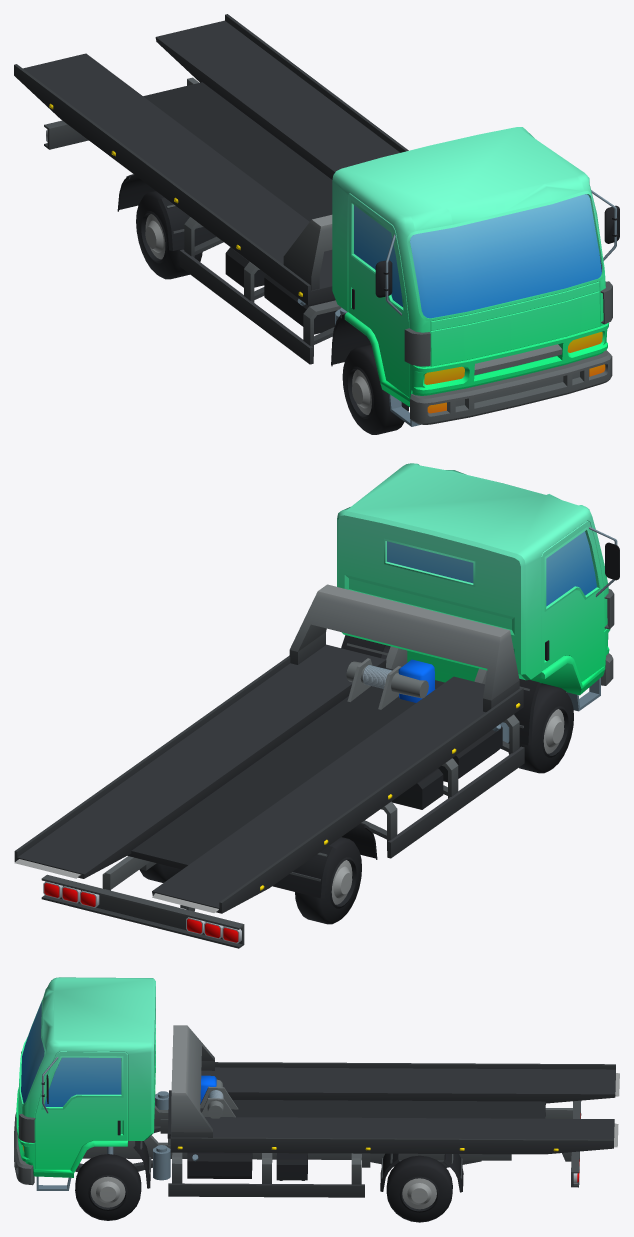
Rendered from RescueCar2.fbx.
3 views of the same model, one above another, from view 1: azimuth 30°, elevation 25°; view 2: azimuth 150°, elevation 25°; view 3: azimuth 270°, elevation 25° (orthographic). The views are drawn at different scales.
Visible parts, largest first — view 1: RescueCar.001, RescueCarPlatform; view 2: RescueCarPlatform, RescueCar.001, RescueCar.003; view 3: RescueCar.001, RescueCarPlatform.
Part boxes in pixels (bbox=[...]): RescueCar.001: bbox=[44, 77, 619, 434]; RescueCarPlatform: bbox=[14, 14, 408, 305]; RescueCarPlatform: bbox=[14, 584, 523, 913]; RescueCar.001: bbox=[41, 463, 619, 948]; RescueCar.003: bbox=[14, 859, 218, 912]; RescueCar.001: bbox=[14, 977, 581, 1222]; RescueCarPlatform: bbox=[167, 1025, 615, 1154].
Bounding box in the file's own units: 356 × 342 × 1047.
